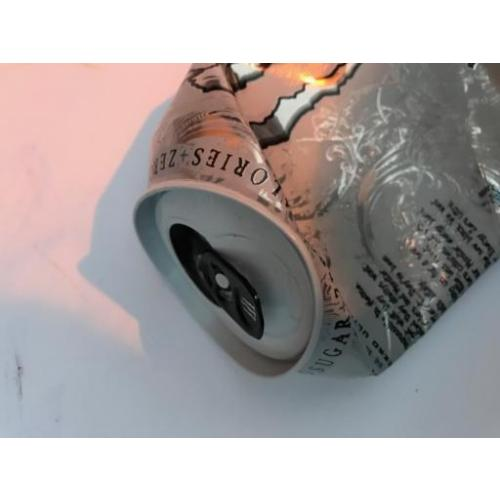metal: (137, 62, 499, 378)
